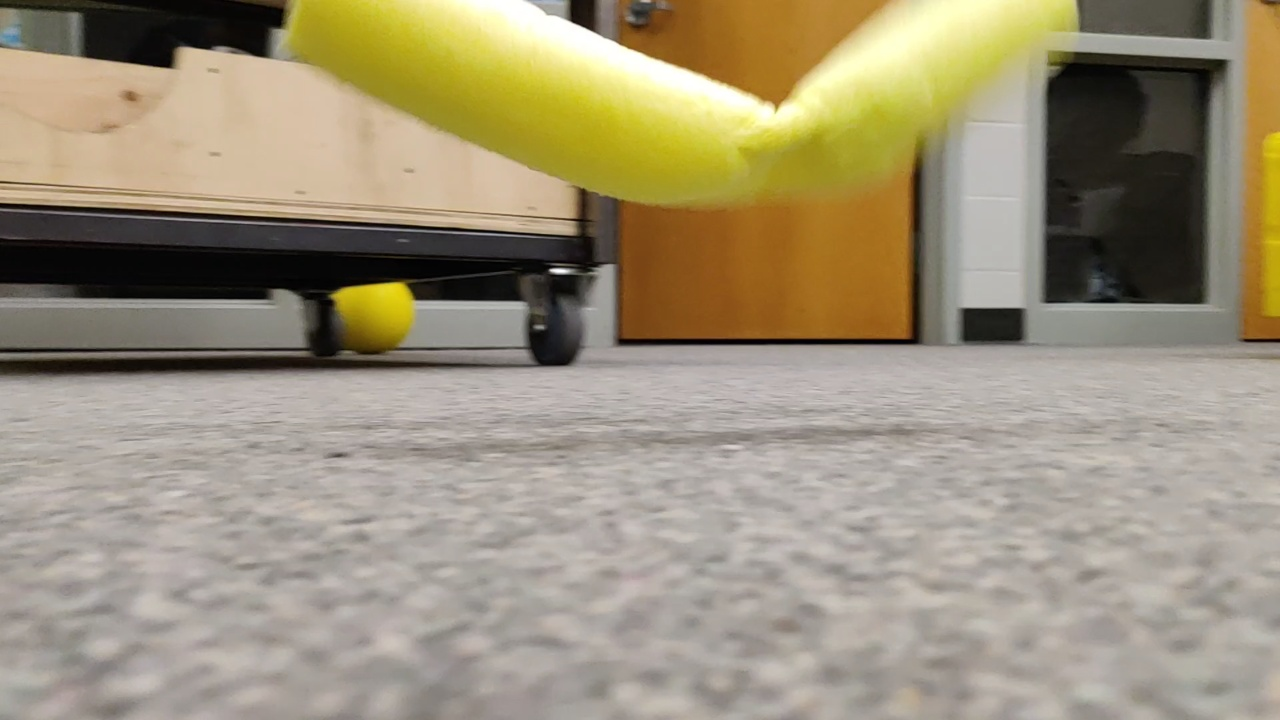Ball: (303, 283, 425, 359)
